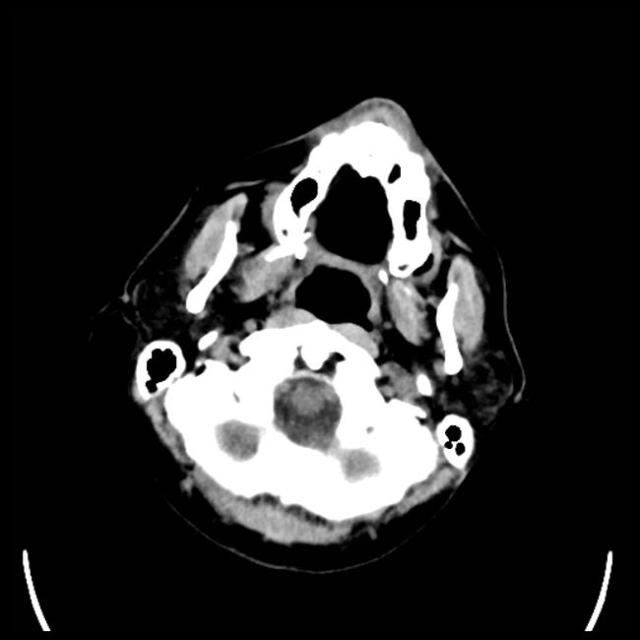lesion: (110, 94, 529, 562)
